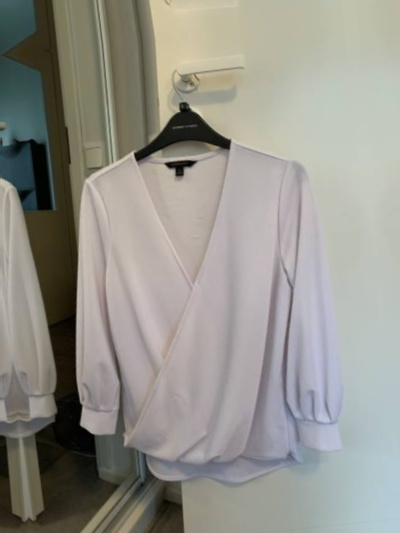Blouse: (46, 97, 370, 495), (384, 62, 400, 460)
